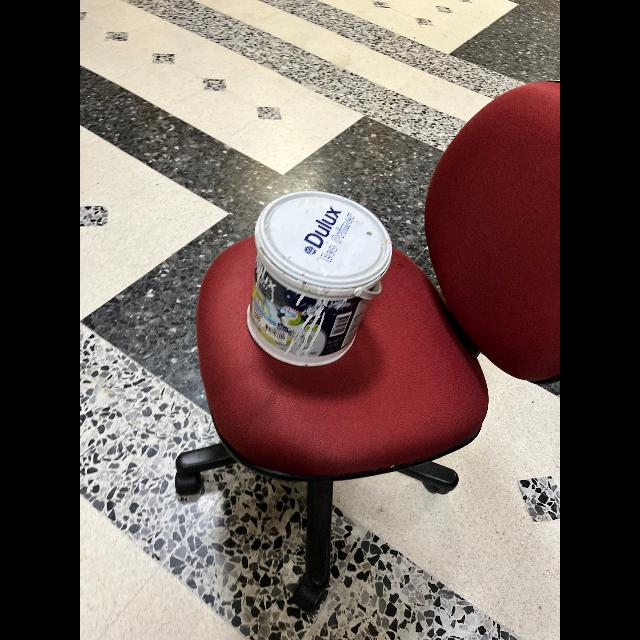paint_bucket: (232, 185, 396, 381)
